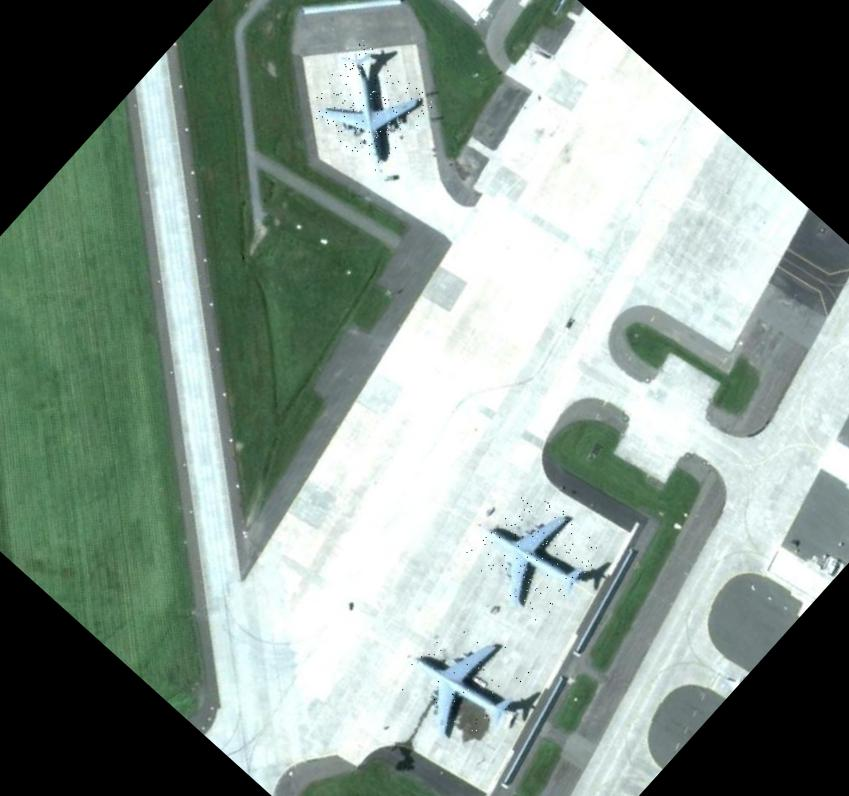A4: (387, 605, 540, 758), (463, 481, 608, 626), (302, 38, 436, 172)
